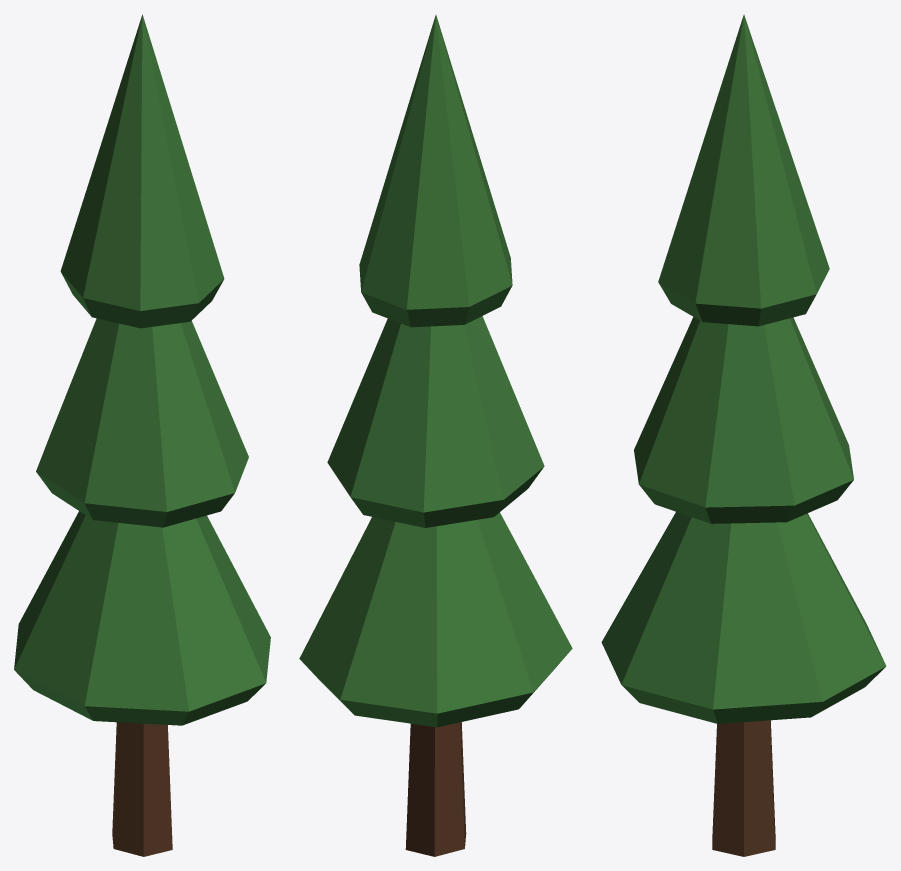
Rendered from tree-large.glb.
3 renders of one model, left to right at view 1: azimuth 30°, elevation 25°; view 2: azimuth 150°, elevation 25°; view 3: azimuth 270°, elevation 25°, orthographic.
Visible parts, largest first — view 1: tree-large; view 2: tree-large; view 3: tree-large.
Part boxes in pixels (x1,y1,x2,y2): tree-large: [14, 14, 270, 856]; tree-large: [299, 15, 572, 856]; tree-large: [601, 14, 886, 856].
Bounding box in the file's own units: 0.33 × 1.15 × 0.36.
1 material, 1 textured.
